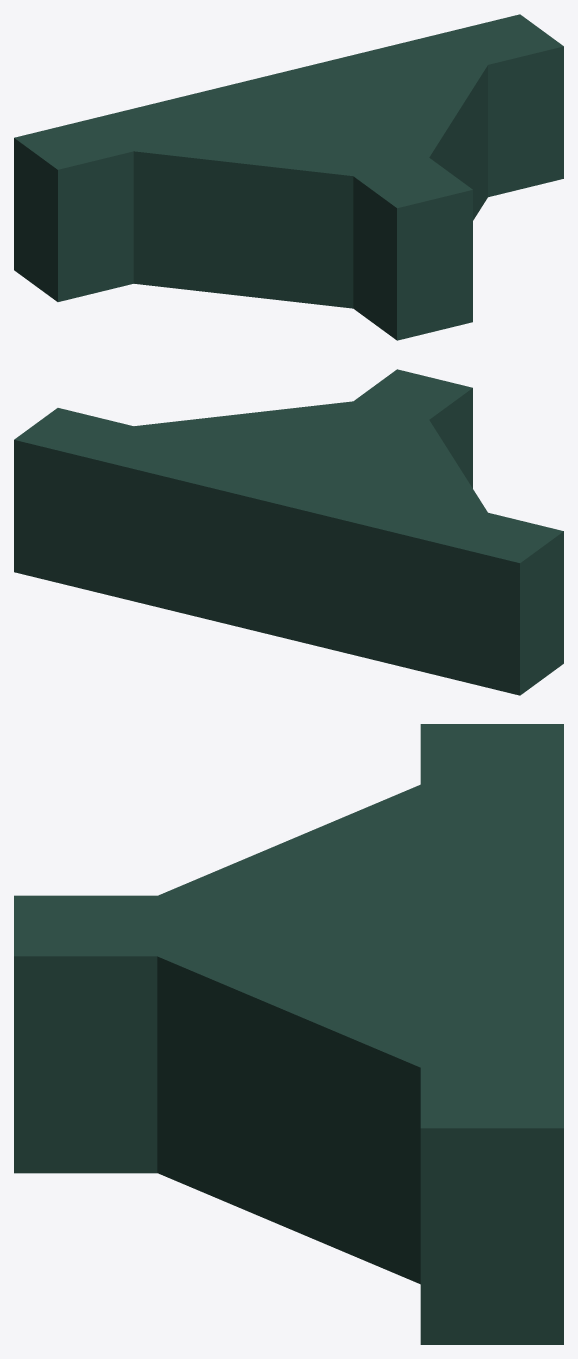
File: W2_WallCorner_Angular1C_Top.fbx
The picture shows the model from 3 angles, top to bottom: view 1: azimuth 30°, elevation 25°; view 2: azimuth 150°, elevation 25°; view 3: azimuth 270°, elevation 25°; orthographic projection. The views are drawn at different scales.
Visible parts, largest first — view 1: W2_WallCorner_Angular1C_Top.001; view 2: W2_WallCorner_Angular1C_Top.001; view 3: W2_WallCorner_Angular1C_Top.001.
Boxes of the visible parts, x1,y1,x2,y2 form: W2_WallCorner_Angular1C_Top.001: [14, 14, 563, 340]; W2_WallCorner_Angular1C_Top.001: [14, 369, 563, 695]; W2_WallCorner_Angular1C_Top.001: [14, 724, 563, 1344].
Bounding box in the file's own units: 2 × 0.5 × 1.15.
